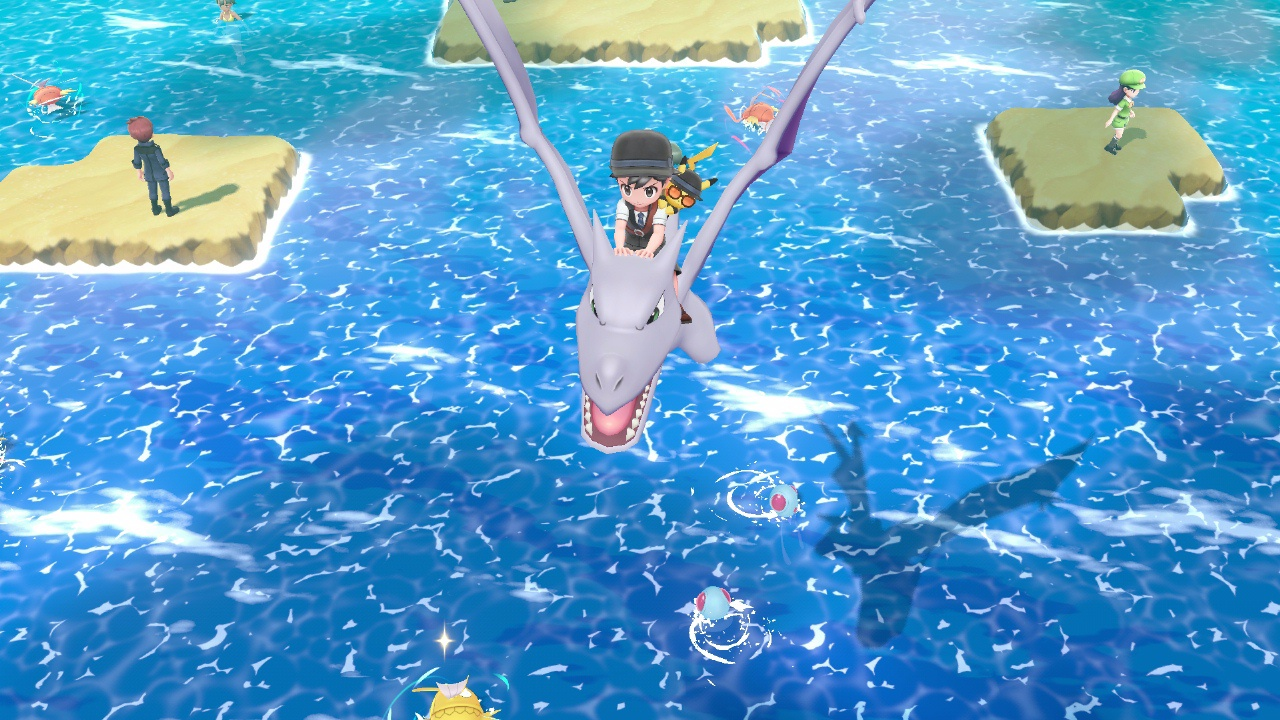Golden: (413, 677, 498, 720)
Red: (29, 79, 71, 113), (738, 99, 780, 129)
